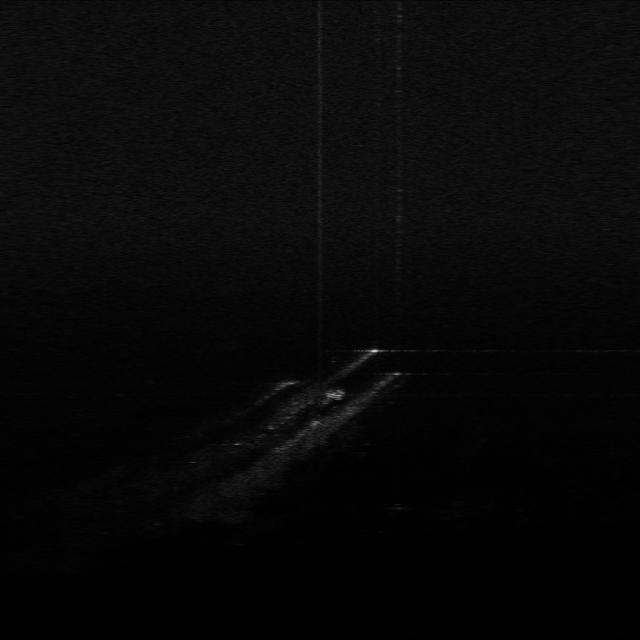rov: (324, 386, 348, 404)
